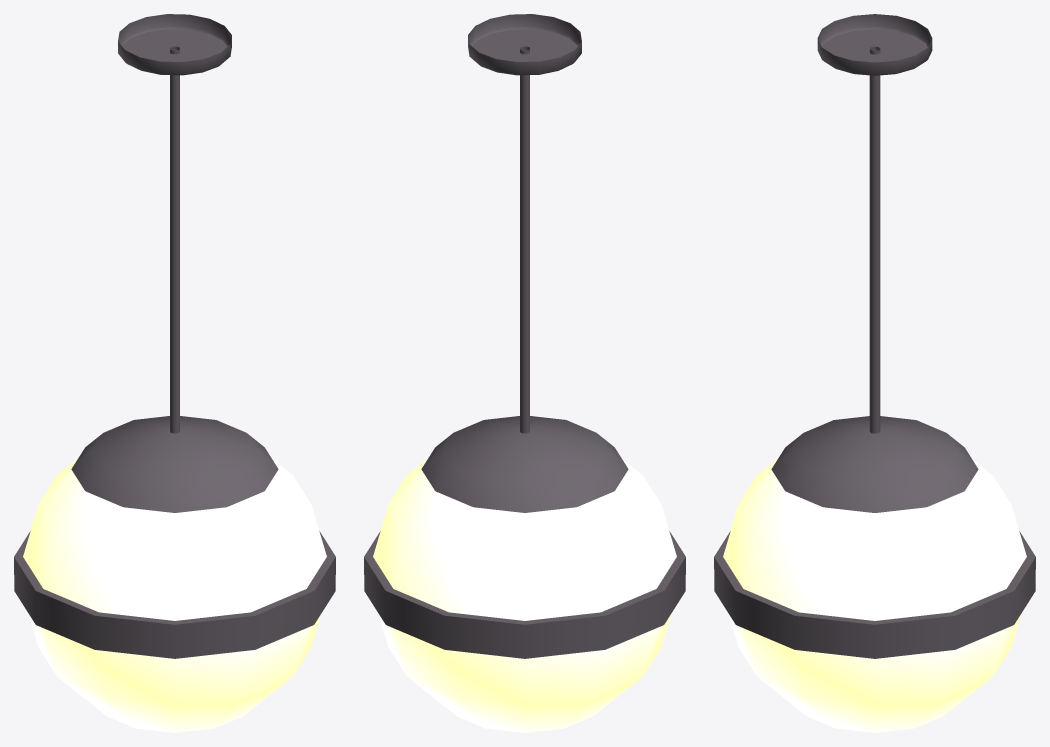
File: SM_lamp_hanging_01.fbx
The picture shows the model from 3 angles, left to right: view 1: azimuth 30°, elevation 25°; view 2: azimuth 150°, elevation 25°; view 3: azimuth 270°, elevation 25°; orthographic projection.
Visible parts, largest first — view 1: lamp_hanging_01; view 2: lamp_hanging_01; view 3: lamp_hanging_01.
Part boxes in pixels (x1,y1,x2,y2): lamp_hanging_01: [14, 14, 335, 732]; lamp_hanging_01: [364, 14, 685, 732]; lamp_hanging_01: [714, 14, 1035, 732].
Size of the model in its own units: 47.49 by 111 by 47.49.
